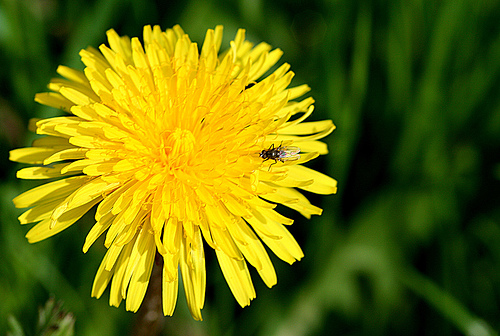dandelion: (6, 20, 347, 320)
